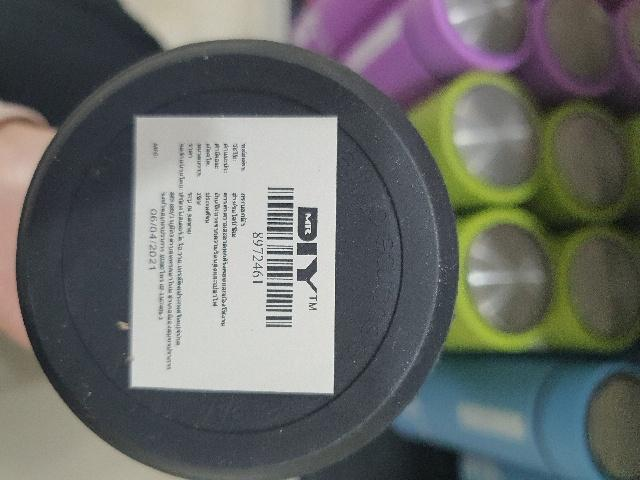Barcode: (251, 177, 298, 342)
